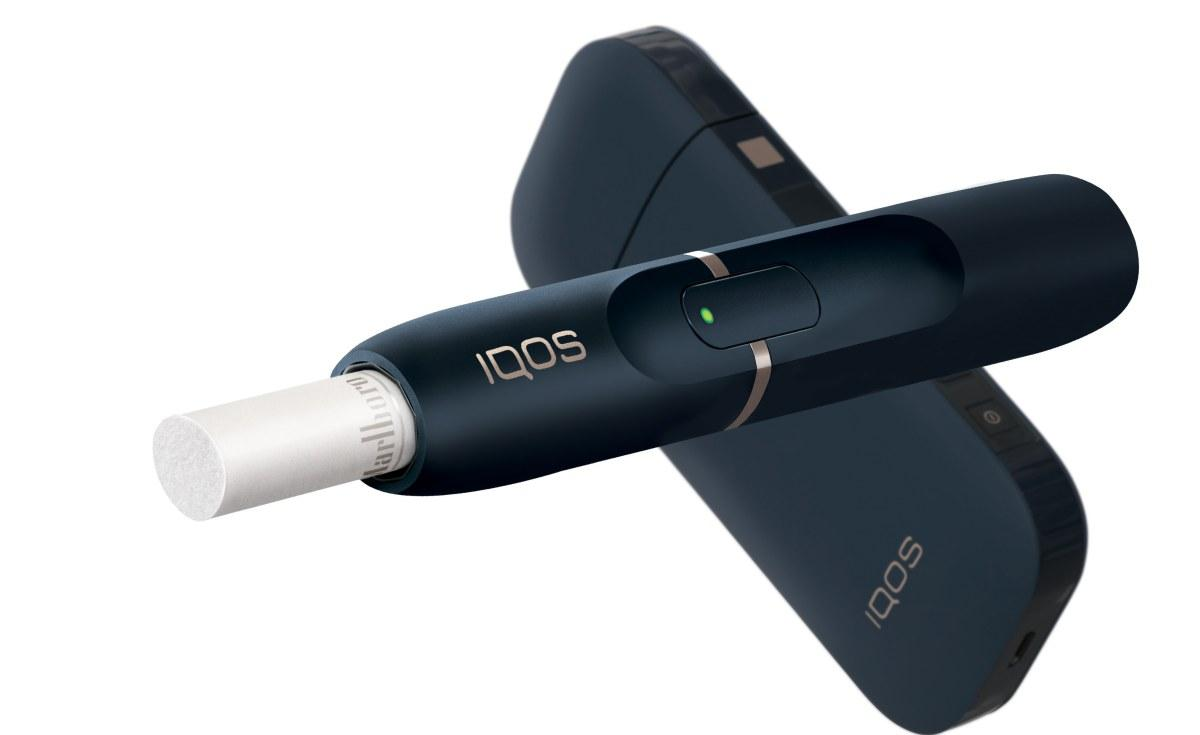iqos: (154, 175, 1137, 520)
